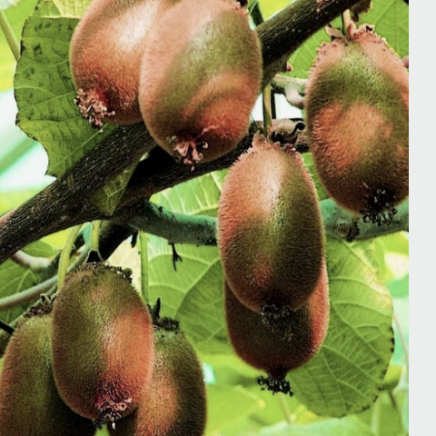kiwi: (289, 30, 436, 241), (201, 128, 340, 323), (137, 0, 289, 163), (38, 261, 163, 419)
